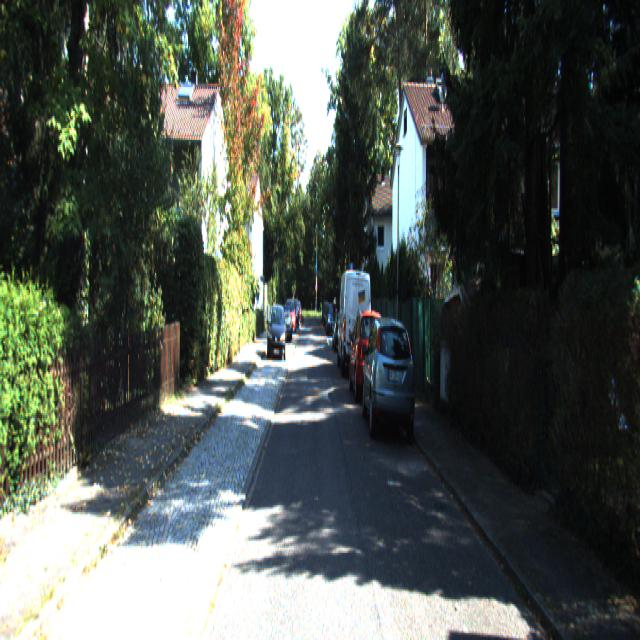Car: (361, 316, 416, 450), (348, 306, 389, 409), (337, 266, 371, 382), (268, 306, 286, 365)
